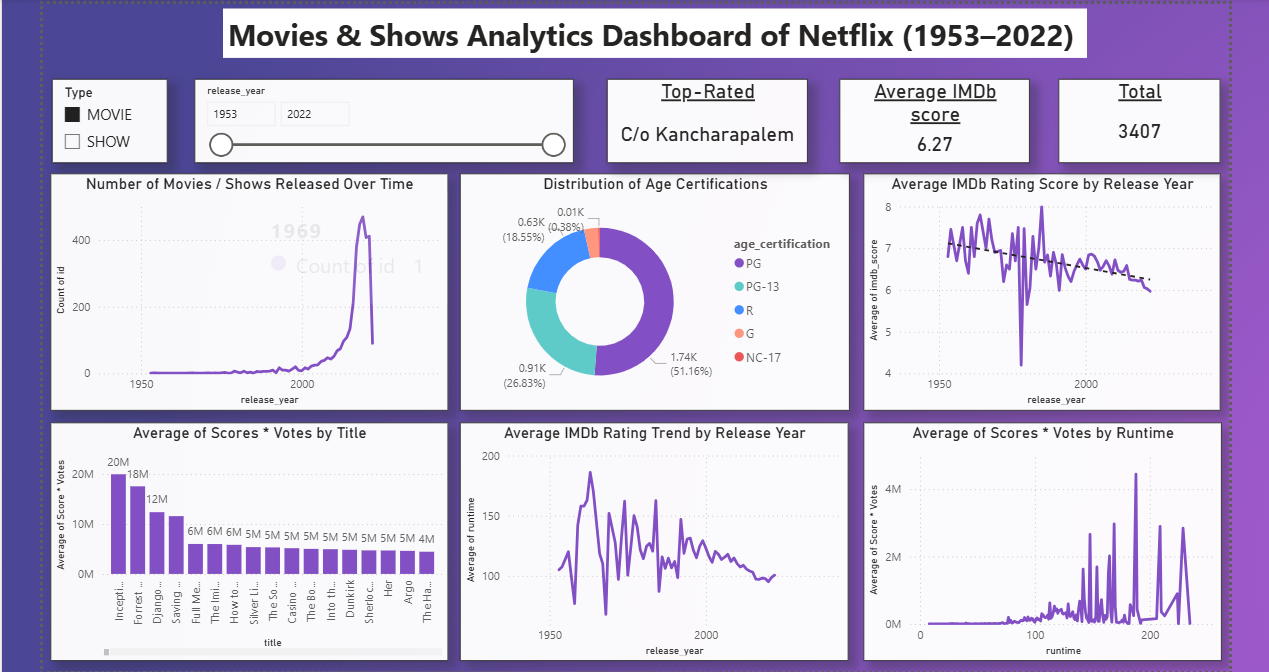

What the dashboard file says about the page in this screenshot:
{"tool":"powerbi","page":{"name":"Page 1","canvas":[1280,720],"ordinal":0},"visuals":[{"type":"slicer","fields":{"Values":["Netflix_Cleaned.type"]},"box":[9.7,81,124.7,90.7],"z":0},{"type":"slicer","fields":{"Values":["Netflix_Cleaned.release_year"]},"box":[163.5,81,409.7,90.7],"z":1000},{"type":"lineChart","title":"Number of Movies / Shows Released Over Time","fields":{"Category":["Netflix_Cleaned.release_year"],"Y":["CountNonNull(Netflix_Cleaned.id)"]},"box":[8.1,183,429.1,255.8],"z":2000},{"type":"columnChart","title":"Average of Scores * Votes by Title ","fields":{"Category":["Netflix_Cleaned.title"],"Y":["Avg(Netflix_Cleaned.overall_rating)"]},"box":[8.1,451.8,429.1,257.5],"z":3000},{"type":"donutChart","title":"Distribution of Age Certifications","fields":{"Category":["Netflix_Cleaned.age_certification"],"Y":["CountNonNull(Netflix_Cleaned.id)"]},"box":[450.1,183,421,255.8],"z":4000},{"type":"lineChart","title":"Average IMDb Rating Trend by Release Year","fields":{"Y":["Avg(Netflix_Cleaned.runtime)"],"Category":["Netflix_Cleaned.release_year"]},"box":[450.1,451.8,419.4,257.5],"z":5000},{"type":"lineChart","title":"Average IMDb Rating Score by Release Year","fields":{"Category":["Netflix_Cleaned.release_year"],"Y":["Avg(Netflix_Cleaned.imdb_score)"]},"box":[885.7,183,385.4,255.8],"z":6000},{"type":"lineChart","title":"Average of Scores * Votes by Runtime","fields":{"Y":["Avg(Netflix_Cleaned.overall_rating)"],"Category":["Netflix_Cleaned.runtime"]},"box":[885.7,451.8,387,257.5],"z":7000},{"type":"card","title":"Total","fields":{"Values":["CountNonNull(Netflix_Cleaned.id)"]},"box":[1096.2,81,174.9,90.7],"z":8000},{"type":"card","title":"Average IMDb score","fields":{"Values":["Avg(Netflix_Cleaned.imdb_score)"]},"box":[859.8,81,205.6,90.7],"z":9000},{"type":"card","title":"Top-Rated","fields":{"Values":["Netflix_Cleaned.TopRatedMovie"]},"box":[608.8,81,217,90.7],"z":10000},{"type":"textbox","box":[194.3,4.9,932.7,53.4],"z":11000}]}

Visuals, with their boxes in screenshot pixels (x1, y1, x2, y2):
slicer - Netflix_Cleaned.type: 55,78,170,161
slicer - Netflix_Cleaned.release_year: 197,78,573,161
"Number of Movies / Shows Released Over Time" lineChart: 54,171,448,406
"Average of Scores * Votes by Title " columnChart: 54,418,448,655
"Distribution of Age Certifications" donutChart: 460,171,847,406
"Average IMDb Rating Trend by Release Year" lineChart: 460,418,845,655
"Average IMDb Rating Score by Release Year" lineChart: 860,171,1214,406
"Average of Scores * Votes by Runtime" lineChart: 860,418,1216,655
"Total" card: 1054,78,1214,161
"Average IMDb score" card: 836,78,1025,161
"Top-Rated" card: 606,78,805,161
textbox: 225,8,1082,57
